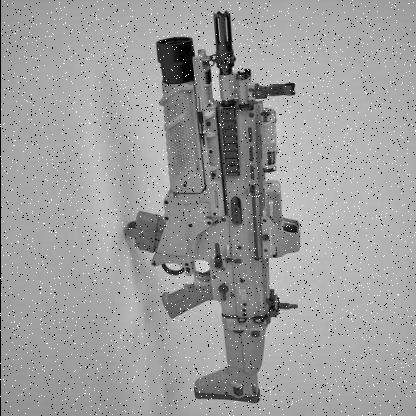rifle: (134, 8, 315, 415)
